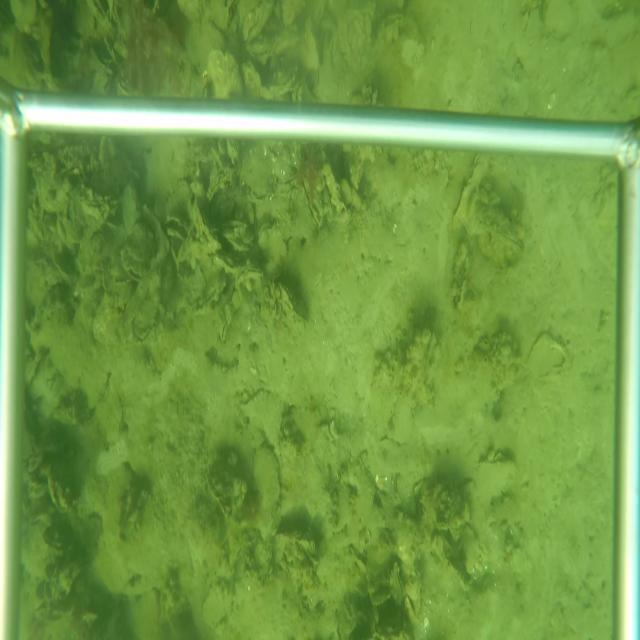Oyster-Closed: (242, 2, 276, 44), (301, 174, 322, 230), (389, 561, 405, 607), (235, 266, 263, 289), (278, 279, 297, 311), (98, 136, 107, 163)
Oyster-Indeterminate: (251, 445, 283, 516), (122, 182, 139, 233)
Oyster-Open: (121, 250, 147, 282), (162, 215, 189, 243)
